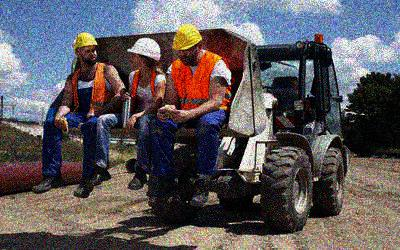helmet: (171, 22, 204, 67), (125, 35, 162, 69), (71, 31, 101, 66)
